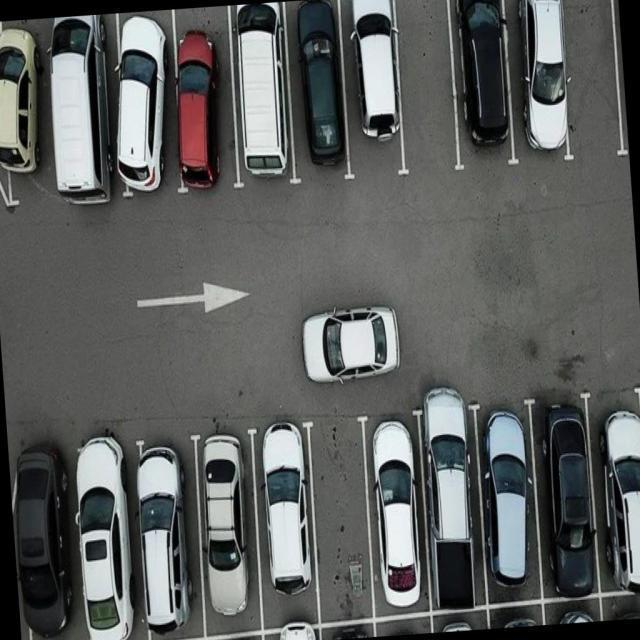space-empty: (307, 416, 378, 622), (392, 0, 457, 183), (558, 0, 621, 156)
space-occupied: (527, 394, 605, 598), (191, 430, 268, 634), (418, 408, 491, 619), (247, 423, 322, 628), (473, 400, 546, 610), (78, 444, 154, 640), (15, 452, 91, 640), (136, 439, 207, 638), (113, 10, 184, 203), (365, 416, 431, 616), (169, 6, 238, 196), (55, 14, 125, 199), (225, 2, 294, 187), (0, 18, 68, 205), (338, 0, 407, 183), (280, 0, 346, 191), (497, 0, 572, 166), (446, 0, 516, 173), (586, 381, 640, 591)
